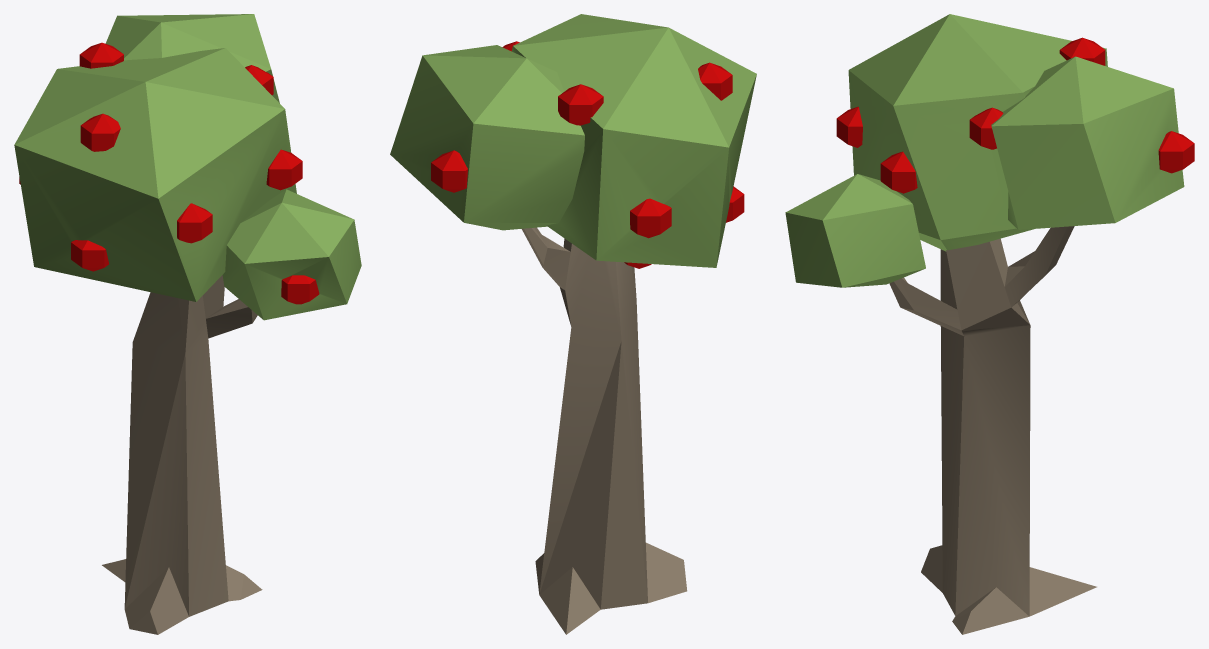
File: Vegetation_Tree_Apple_01.fbx
3 views of the same model, side by side, from view 1: azimuth 30°, elevation 25°; view 2: azimuth 150°, elevation 25°; view 3: azimuth 270°, elevation 25° (orthographic). The views are drawn at different scales.
Parts seen in each view (by area): view 1: Vegetation_Tree_Apple_01; view 2: Vegetation_Tree_Apple_01; view 3: Vegetation_Tree_Apple_01.
Part boxes in pixels (x1,y1,x2,y2): Vegetation_Tree_Apple_01: (14, 14, 361, 634); Vegetation_Tree_Apple_01: (390, 14, 756, 634); Vegetation_Tree_Apple_01: (785, 14, 1194, 634).
Bounding box in the file's own units: 96.26 × 175 × 116.
